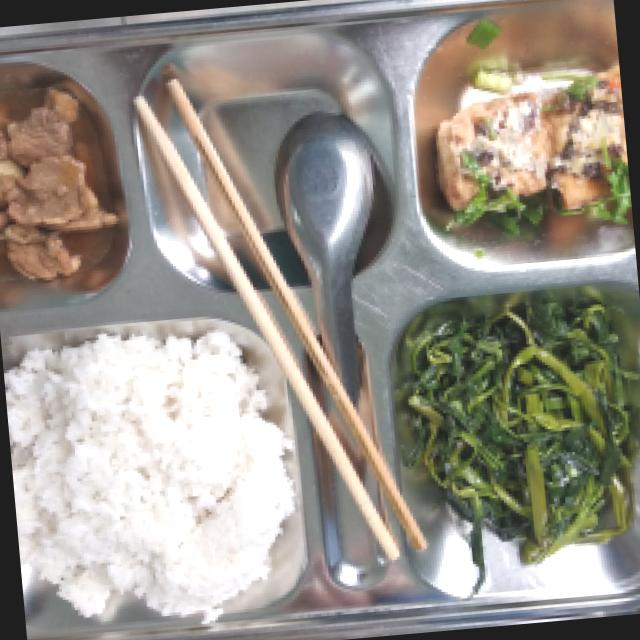bo xao: (0, 89, 116, 281)
com: (4, 332, 292, 617)
dau hu: (435, 68, 625, 220)
rau muong: (393, 288, 640, 565)
